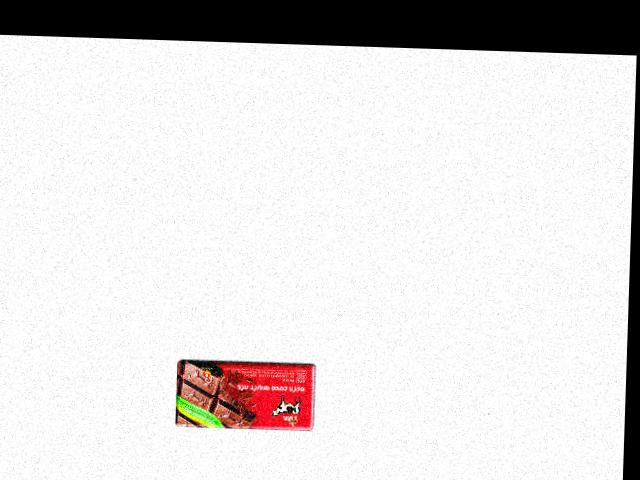chocolate: (174, 352, 320, 433)
